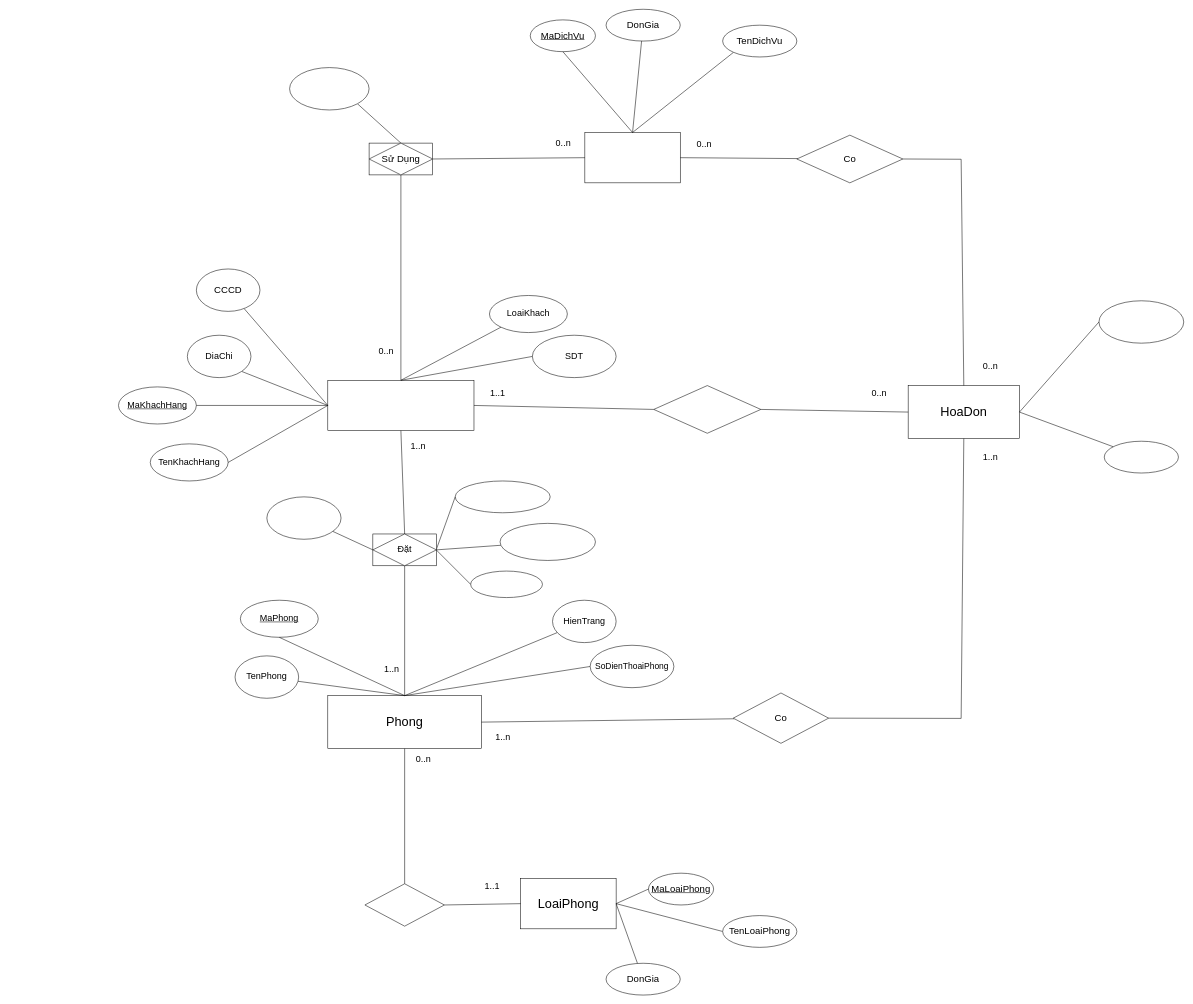
The diagram is 1193 pixels wide and 1004 high, and some of its shapes have lost their labels. Each missing label, with the box of its shape:
DichVu: (584, 132, 680, 183)
KhachHang: (327, 380, 474, 431)
MaHD: (1098, 300, 1184, 343)
NgayDatPhong: (455, 480, 550, 513)
NgayNhanPhong: (500, 523, 595, 560)
NgaySuDung: (289, 67, 369, 110)
NgayTraPhong: (266, 496, 341, 539)
PhuThu: (1104, 441, 1178, 473)
SoNguoiO: (470, 571, 542, 598)
ThanhToan: (653, 385, 761, 433)
Thuộc: (364, 883, 444, 926)
